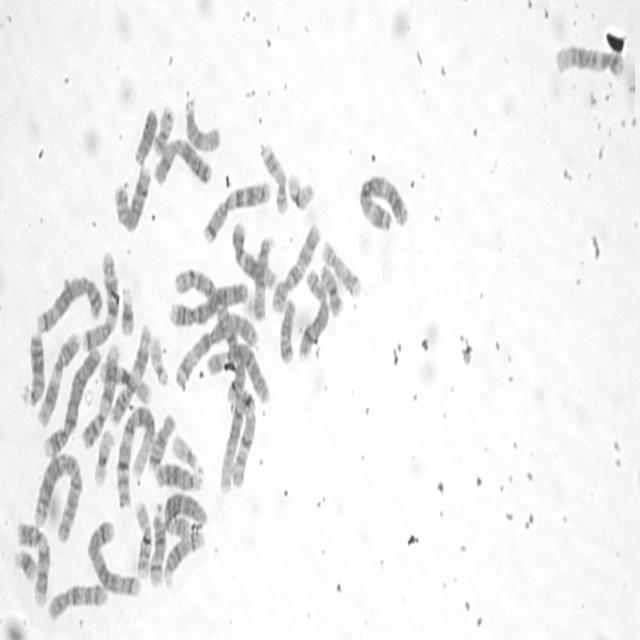A1: (113, 398, 158, 511), (216, 384, 258, 496)
A2: (172, 262, 248, 406), (30, 447, 84, 545)
A3: (176, 308, 262, 390), (356, 168, 411, 234)
B4: (43, 340, 103, 459), (167, 276, 249, 328)
B5: (85, 514, 142, 599), (34, 269, 105, 335)
C10: (270, 218, 323, 316), (45, 576, 109, 624)
C11: (109, 320, 153, 428), (34, 326, 80, 428)
C12: (229, 214, 278, 290), (551, 38, 627, 78)
C6: (204, 337, 272, 405), (162, 488, 210, 541)
C7: (200, 176, 273, 246), (79, 246, 120, 353)
C8: (296, 264, 331, 362), (111, 158, 152, 234)
C9: (80, 337, 122, 450), (14, 518, 51, 608)
D13: (18, 326, 46, 408), (153, 458, 205, 492)
D14: (160, 526, 206, 591), (147, 499, 167, 589)
D15: (182, 91, 222, 154), (250, 230, 276, 322)
E16: (96, 358, 152, 406), (132, 495, 154, 581)
E17: (319, 235, 364, 299), (258, 137, 290, 216)
E18: (147, 408, 176, 471), (276, 293, 298, 364)
F19: (91, 424, 116, 489), (285, 166, 316, 212)
F20: (317, 258, 345, 318), (151, 100, 176, 157)
G21: (11, 543, 39, 582), (118, 282, 136, 338)
G22: (170, 428, 206, 478), (148, 331, 170, 387)
X: (150, 132, 213, 188)
Y: (132, 101, 159, 167)
